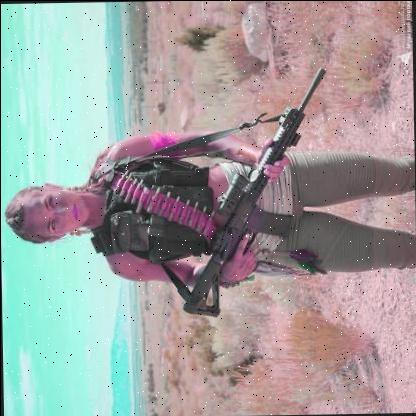rifle: (176, 63, 336, 320)
